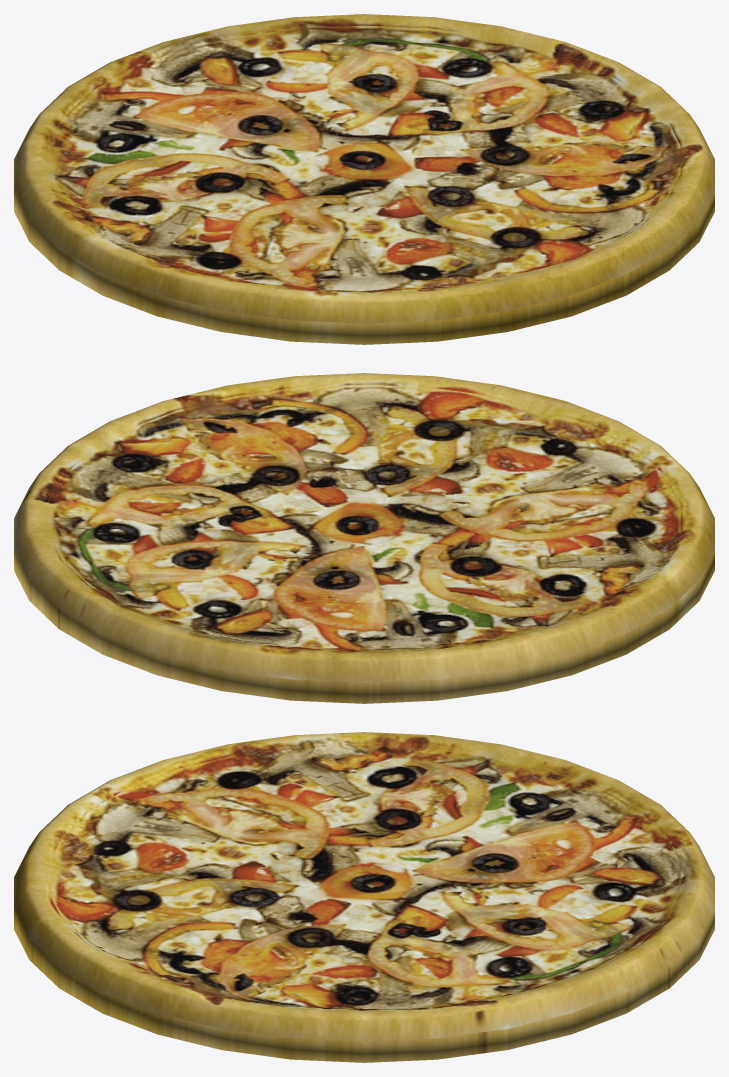
The model's file is UnCookedPizza.fbx.
3 views of the same model, one above another, from view 1: azimuth 30°, elevation 25°; view 2: azimuth 150°, elevation 25°; view 3: azimuth 270°, elevation 25° (orthographic).
Parts seen in each view (by area): view 1: pCylinder2; view 2: pCylinder2; view 3: pCylinder2.
Part boxes in pixels (box(x1,y1,x2,y2)): pCylinder2: box(14, 14, 714, 344); pCylinder2: box(14, 373, 714, 703); pCylinder2: box(14, 732, 714, 1062).
Bounding box in the file's own units: 10 × 0.6226 × 9.95.
